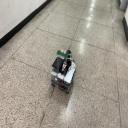cart: (50, 58, 76, 94)
